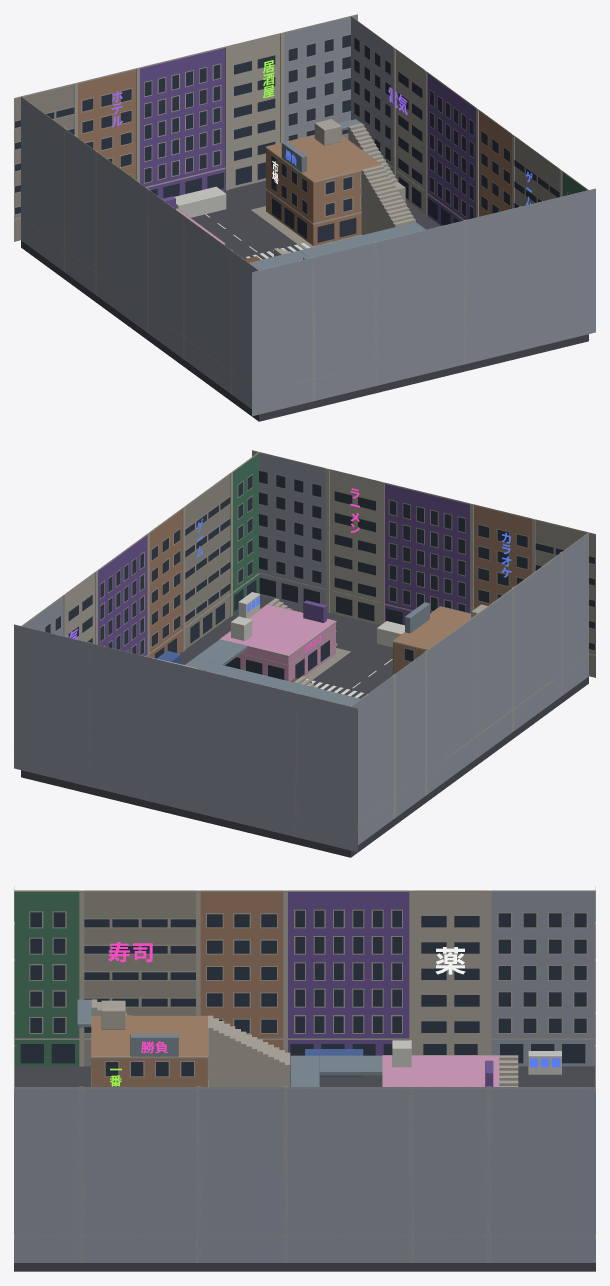
Rendered from ichiban-gai.glb.
3 renders of one model, top to bottom at view 1: azimuth 30°, elevation 25°; view 2: azimuth 150°, elevation 25°; view 3: azimuth 270°, elevation 25°, orthographic. The views are drawn at different scales.
Visible parts, largest first — view 1: arena-estatica, arena-pele, arena-neon; view 2: arena-estatica, arena-pele, arena-neon; view 3: arena-estatica, arena-pele, arena-neon.
Boxes of the visible parts, bbox=[...] form: arena-estatica: bbox=[21, 96, 595, 421]; arena-pele: bbox=[14, 14, 595, 415]; arena-neon: bbox=[112, 60, 532, 204]; arena-estatica: bbox=[14, 533, 588, 857]; arena-pele: bbox=[14, 450, 595, 851]; arena-neon: bbox=[66, 488, 511, 652]; arena-estatica: bbox=[14, 999, 595, 1271]; arena-pele: bbox=[14, 886, 595, 1262]; arena-neon: bbox=[14, 942, 560, 1086].
Size of the model in its own units: 50 by 21 by 60.
